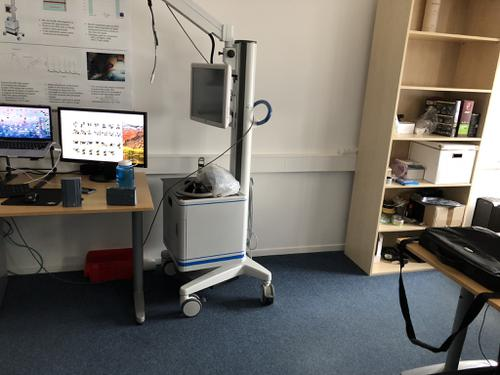device: (61, 178, 84, 208), (107, 187, 138, 207)
